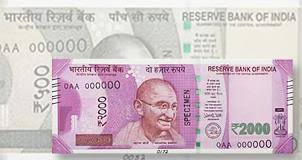twoThousand: (68, 77, 280, 142)
